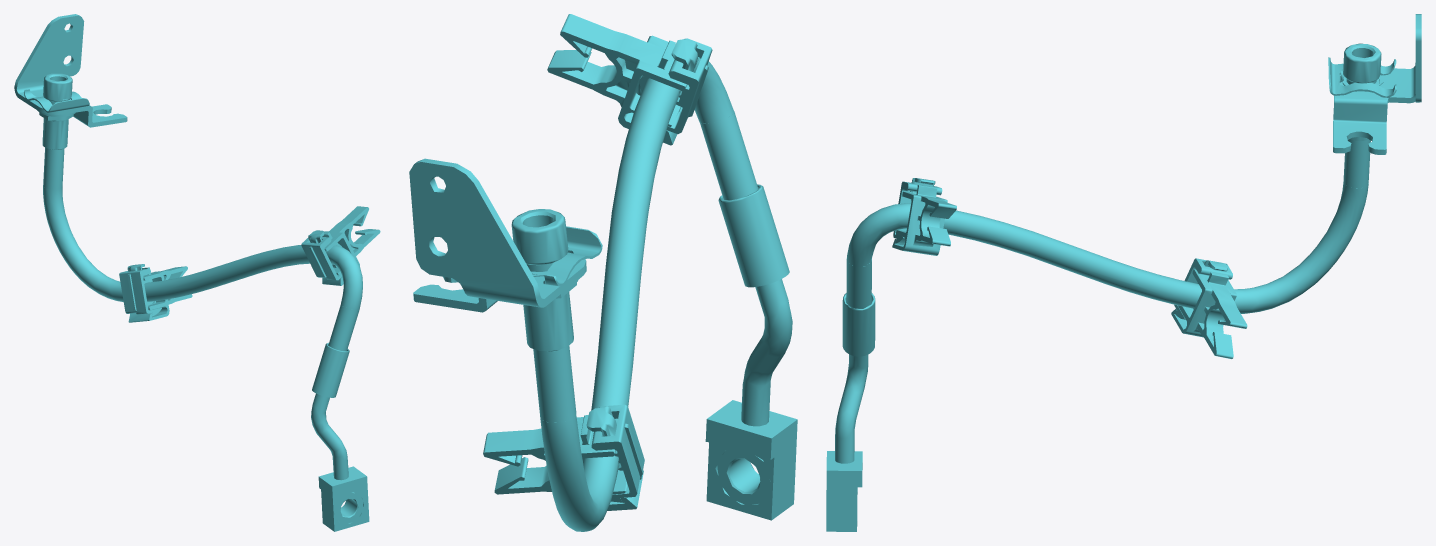
The model's file is Vehicle_Speed_.gltf.
The picture shows the model from 3 angles, left to right: view 1: azimuth 30°, elevation 25°; view 2: azimuth 150°, elevation 25°; view 3: azimuth 270°, elevation 25°; orthographic projection. The views are drawn at different scales.
Visible parts, largest first — view 1: Vehicle_Speed_; view 2: Vehicle_Speed_; view 3: Vehicle_Speed_.
Part boxes in pixels (x1,y1,x2,y2): Vehicle_Speed_: (14,14,380,531); Vehicle_Speed_: (409,14,797,531); Vehicle_Speed_: (826,14,1421,531).
Size of the model in its own units: 0.1234 by 0.2368 by 0.2738.
